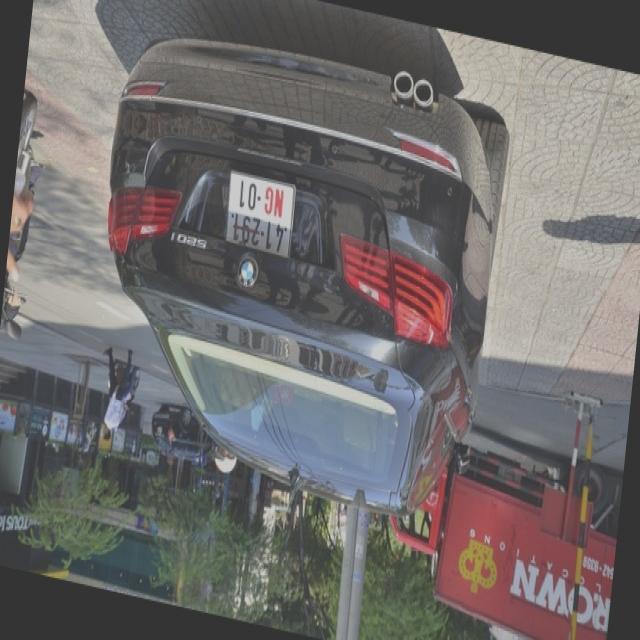bien_ngoai_giao: (225, 166, 292, 257)
